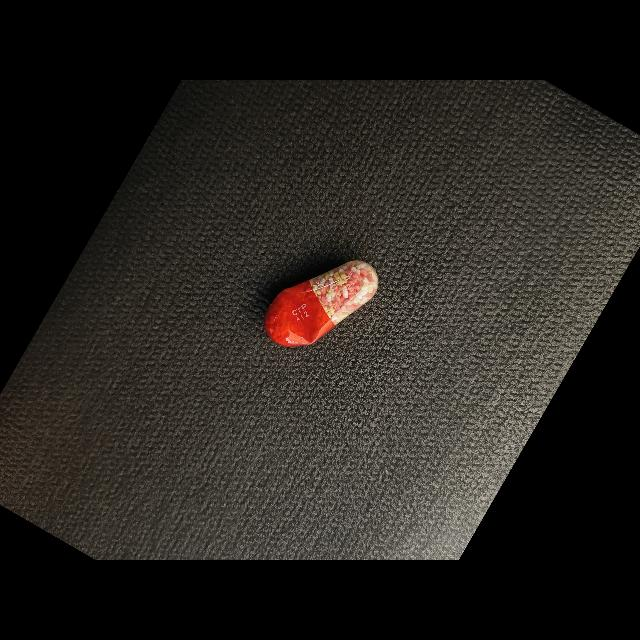Defective Capsule: (265, 260, 379, 347)
